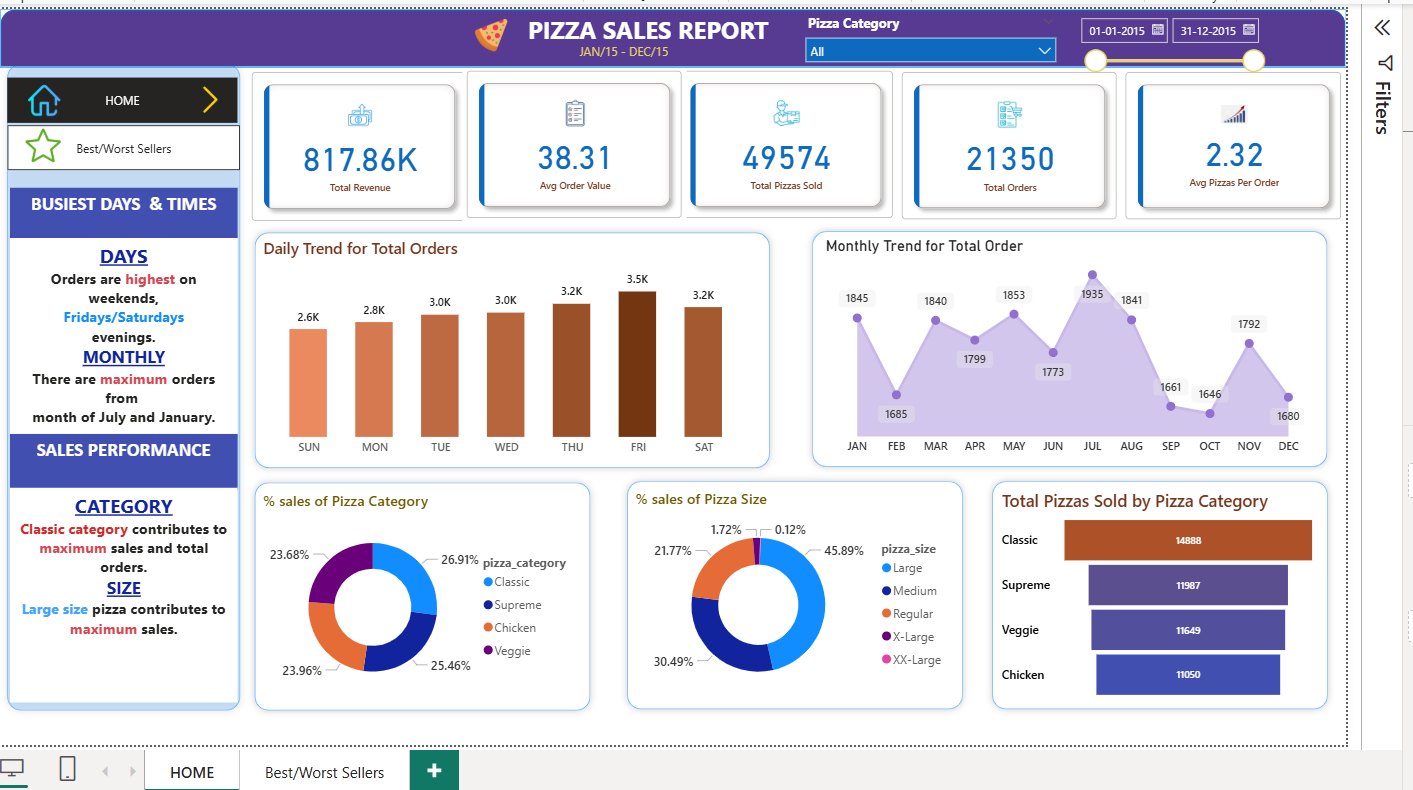

Layout of this report page (visuals, bound fields, positions):
{"tool":"powerbi","page":{"name":"HOME","canvas":[1500,820],"ordinal":0},"visuals":[{"type":"cardVisual","fields":{"Data":["pizza_sales.Total Revenue"]},"box":[275.7,65.5,249.3,175.5],"z":0},{"type":"shape","box":[0,52.9,275.7,736.7],"z":1000},{"type":"cardVisual","fields":{"Data":["pizza_sales.Total Pizzas Sold"]},"box":[750.6,64.1,249.3,174.1],"z":2000},{"type":"cardVisual","fields":{"Data":["pizza_sales.Avg Order Value"]},"box":[515.3,64.1,249.3,174.1],"z":3000},{"type":"cardVisual","fields":{"Data":["pizza_sales.Total Orders"]},"box":[999.9,65.5,249.3,174.1],"z":4000},{"type":"cardVisual","fields":{"Data":["pizza_sales.Avg Pizzas Per Order"]},"box":[1249.2,65.5,250.7,174.1],"z":5000},{"type":"shape","box":[0,0,1499.9,65.5],"z":6000},{"type":"textbox","box":[525,0,394.1,50.1],"z":7000},{"type":"textbox","box":[640.6,33.4,245.1,39],"z":8000},{"type":"shape","box":[275.7,240.9,590,278.5],"z":9000},{"type":"columnChart","title":"Daily Trend for Total Orders  ","fields":{"Category":["pizza_sales.Order Day"],"Y":["pizza_sales.Total Orders"]},"box":[288.3,254.9,552.9,252.1],"z":10000},{"type":"shape","box":[896.9,239.5,590,278.5],"z":11000},{"type":"areaChart","title":"Monthly Trend for Total Order","fields":{"Category":["pizza_sales.Order Month"],"Y":["pizza_sales.Total Orders"]},"box":[915,253.5,543.1,252.1],"z":12000},{"type":"shape","box":[690.8,518.1,389.9,270.2],"z":13000},{"type":"shape","box":[275.7,519.5,390,270.2],"z":14000},{"type":"shape","box":[1097.4,518.1,389.9,270.2],"z":15000},{"type":"donutChart","title":"% sales of Pizza Category","fields":{"Category":["pizza_sales.pizza_category"],"Y":["pizza_sales.Total Revenue"]},"box":[288.3,536.2,363.5,239.5],"z":16000},{"type":"donutChart","title":"% sales of Pizza Size","fields":{"Y":["pizza_sales.Total Revenue"],"Category":["pizza_sales.pizza_size"]},"box":[703.3,533.4,363.5,239.5],"z":17000},{"type":"funnel","title":"Total Pizzas Sold by Pizza Category","fields":{"Category":["pizza_sales.pizza_category"],"Y":["pizza_sales.Total Pizzas Sold"]},"box":[1111.4,534.8,360.7,239.5],"z":18000},{"type":"textbox","box":[11.1,254.9,253.5,218.6],"z":19000},{"type":"textbox","box":[11.1,199.2,253.5,55.7],"z":20000},{"type":"textbox","box":[11.1,473.5,253.5,61.3],"z":21000},{"type":"textbox","box":[11.1,533.4,253.5,239.5],"z":22000},{"type":"slicer","fields":{"Values":["pizza_sales.pizza_category"]},"box":[887.1,0,299.4,64.1],"z":23000},{"type":"slicer","fields":{"Values":["pizza_sales.order_date"]},"box":[1192.1,0,225.6,72.4],"z":24000},{"type":"pageNavigator","box":[8.4,76.6,256.3,50.1],"z":25000},{"type":"pageNavigator","box":[8.4,129.5,259,50.1],"z":26000},{"type":"image","box":[214.5,79.4,40.4,43.2],"z":27000},{"type":"image","box":[26.5,76.6,46,50.1],"z":28000},{"type":"image","box":[23.7,126.7,48.7,50.1],"z":29000},{"type":"image","box":[523.6,5.6,47.4,47.4],"z":30000}]}

Visuals, with their boxes on the page's 1500x820 design canvas (x1, y1, x2, y2). These are canvas units, not pixel positions in the 1413x790 screenshot, which may show the page scaled, cropped or inside an application window:
cardVisual - pizza_sales.Total Revenue: BBox(276, 66, 525, 241)
shape: BBox(0, 53, 276, 790)
cardVisual - pizza_sales.Total Pizzas Sold: BBox(751, 64, 1000, 238)
cardVisual - pizza_sales.Avg Order Value: BBox(515, 64, 765, 238)
cardVisual - pizza_sales.Total Orders: BBox(1000, 66, 1249, 240)
cardVisual - pizza_sales.Avg Pizzas Per Order: BBox(1249, 66, 1500, 240)
shape: BBox(0, 0, 1500, 66)
textbox: BBox(525, 0, 919, 50)
textbox: BBox(641, 33, 886, 72)
shape: BBox(276, 241, 866, 519)
"Daily Trend for Total Orders  " columnChart: BBox(288, 255, 841, 507)
shape: BBox(897, 240, 1487, 518)
"Monthly Trend for Total Order" areaChart: BBox(915, 254, 1458, 506)
shape: BBox(691, 518, 1081, 788)
shape: BBox(276, 520, 666, 790)
shape: BBox(1097, 518, 1487, 788)
"% sales of Pizza Category" donutChart: BBox(288, 536, 652, 776)
"% sales of Pizza Size" donutChart: BBox(703, 533, 1067, 773)
"Total Pizzas Sold by Pizza Category" funnel: BBox(1111, 535, 1472, 774)
textbox: BBox(11, 255, 265, 474)
textbox: BBox(11, 199, 265, 255)
textbox: BBox(11, 474, 265, 535)
textbox: BBox(11, 533, 265, 773)
slicer - pizza_sales.pizza_category: BBox(887, 0, 1186, 64)
slicer - pizza_sales.order_date: BBox(1192, 0, 1418, 72)
pageNavigator: BBox(8, 77, 265, 127)
pageNavigator: BBox(8, 130, 267, 180)
image: BBox(214, 79, 255, 123)
image: BBox(26, 77, 72, 127)
image: BBox(24, 127, 72, 177)
image: BBox(524, 6, 571, 53)
